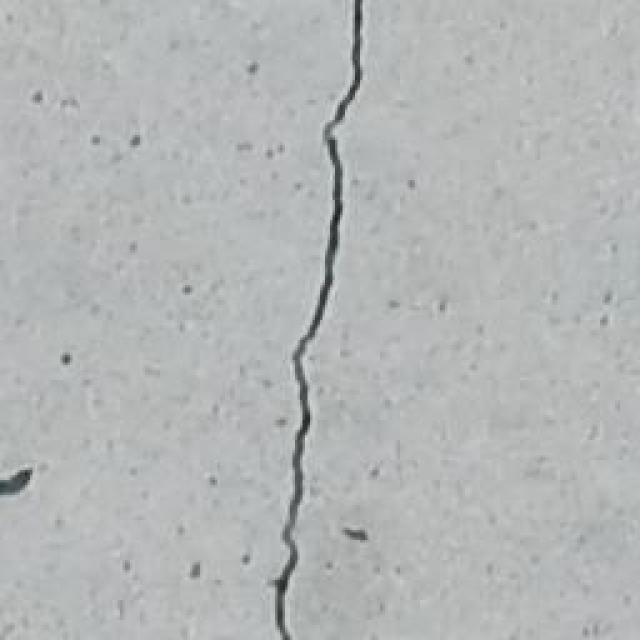concrete-crack: (272, 0, 365, 640)
